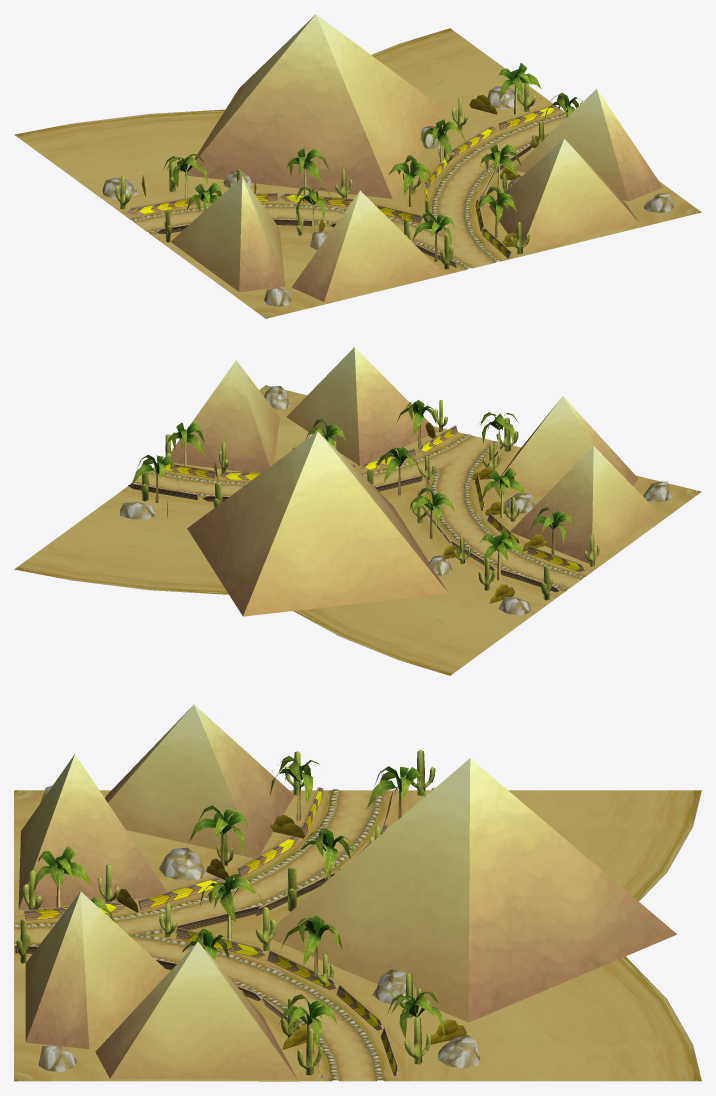
Rendered from DesertRoad02_BothCurve.FBX.
3 views of the same model, one above another, from view 1: azimuth 30°, elevation 25°; view 2: azimuth 150°, elevation 25°; view 3: azimuth 270°, elevation 25° (orthographic). The views are drawn at different scales.
Parts seen in each view (by area): view 1: Pyramid (×5), Road, PalmTree (×10), Fence, Stone; view 2: Pyramid (×5), Road, PalmTree (×8), Stone; view 3: Pyramid (×5), Road, PalmTree (×10), Fence (×7), Stone (×4).
Part boxes in pixels (box(x1,y1,x2,y2)): Pyramid (×5): box(171, 14, 662, 301); Road: box(14, 28, 701, 318); PalmTree (×10): box(163, 63, 541, 261); Fence: box(498, 105, 558, 130); Stone: box(487, 86, 519, 109); Pyramid (×5): box(171, 347, 660, 616); Road: box(14, 385, 701, 675); PalmTree (×8): box(131, 400, 573, 580); Stone: box(120, 502, 155, 519); Pyramid (×5): box(18, 704, 676, 1081); Road: box(14, 789, 701, 1081); PalmTree (×10): box(33, 756, 444, 1062); Fence (×7): box(24, 835, 383, 1030); Stone (×4): box(38, 847, 480, 1071).
Bounding box in the file's own units: 10000 × 2936 × 10000.
